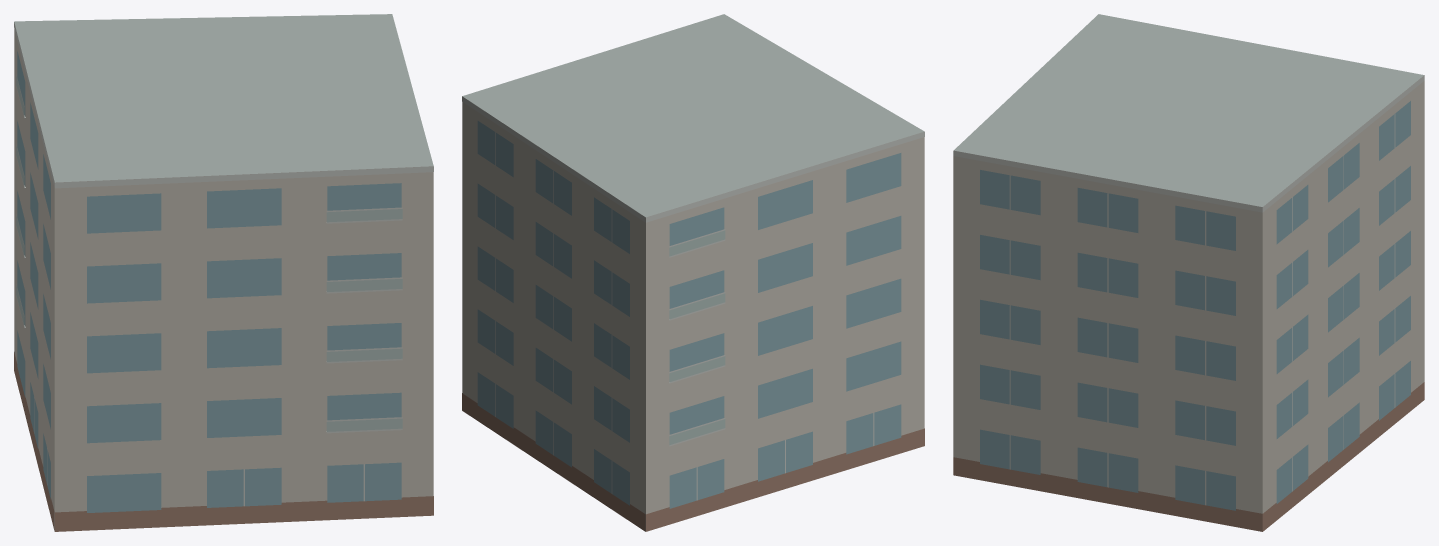
The model's file is survey-upis-32672109.glb.
3 renders of one model, left to right at view 1: azimuth 30°, elevation 25°; view 2: azimuth 150°, elevation 25°; view 3: azimuth 270°, elevation 25°, orthographic. The views are drawn at different scales.
Parts seen in each view (by area): view 1: survey-upis-32672109.tmp; view 2: survey-upis-32672109.tmp; view 3: survey-upis-32672109.tmp.
Boxes of the visible parts, <box> form: survey-upis-32672109.tmp: <box>14,14,433,531</box>; survey-upis-32672109.tmp: <box>462,14,924,531</box>; survey-upis-32672109.tmp: <box>953,14,1424,531</box>.
Size of the model in its own units: 18.38 by 14.4 by 18.94.
